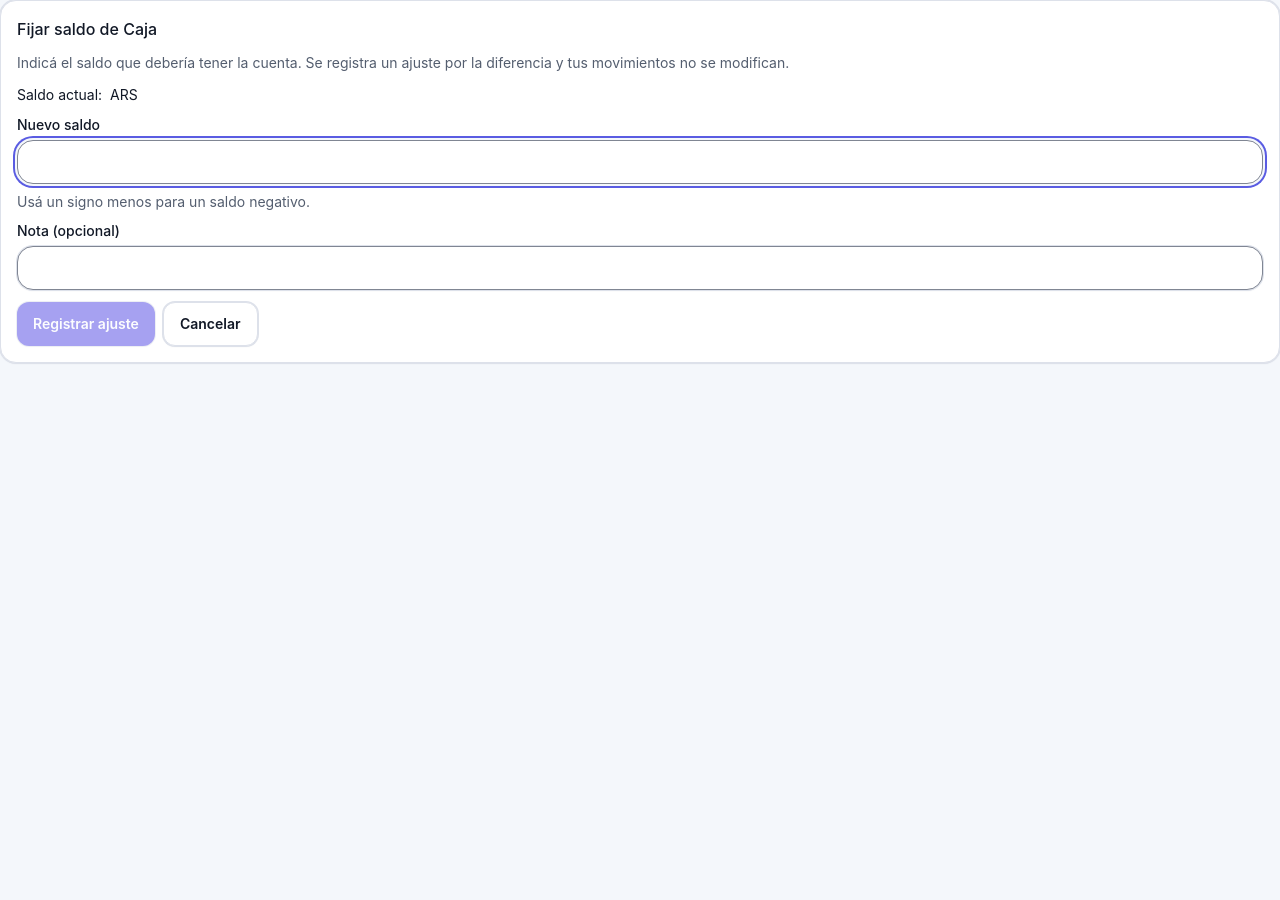
Scenario: SetBalanceDialog › shows the invalid-amount message on the field and disables confirm (AC-12)
Type "-" into the field labelled "Nuevo saldo" at point(640, 162), box [17,140,1263,184]
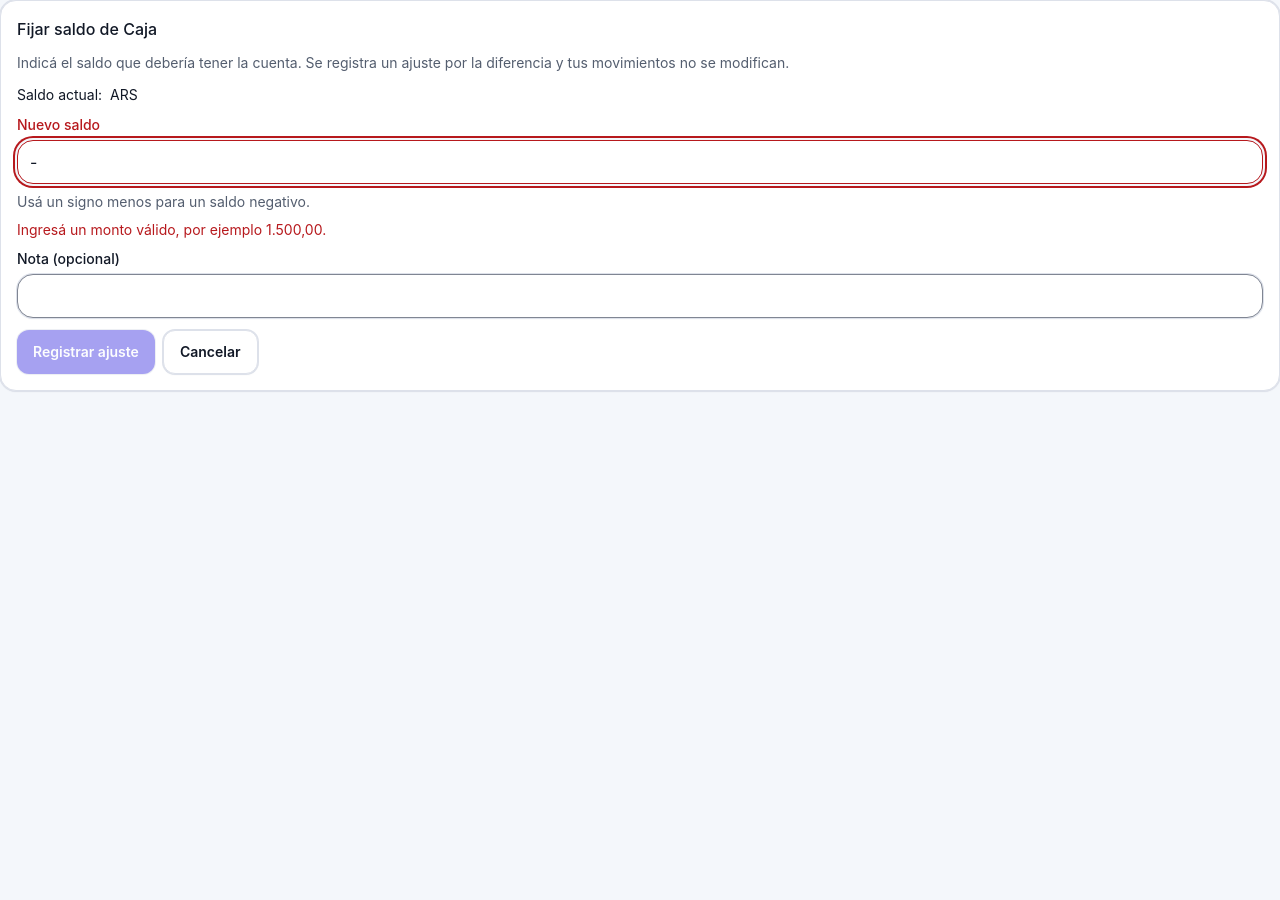
expect the button "Registrar ajuste" is disabled: met, box [17,330,155,374]
expect the text "Ingresá un monto válido, por ejemplo 1.500,00." is shown: met, box [17,221,326,238]
